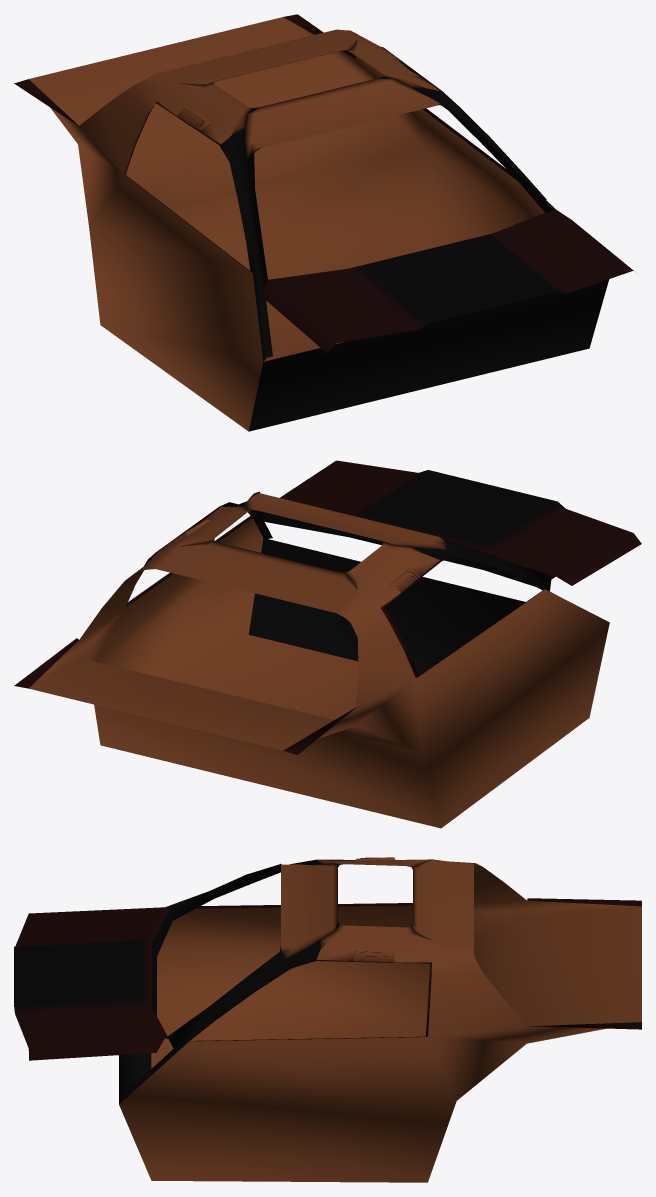
Rendered from carBody_V4.fbx.
The picture shows the model from 3 angles, top to bottom: view 1: azimuth 30°, elevation 25°; view 2: azimuth 150°, elevation 25°; view 3: azimuth 270°, elevation 25°; orthographic projection. The views are drawn at different scales.
Parts seen in each view (by area): view 1: carBody_V4; view 2: carBody_V4; view 3: carBody_V4.
Boxes of the visible parts, left/top/right/bottom form: carBody_V4: left=14, top=14, right=633, bottom=431; carBody_V4: left=14, top=460, right=641, bottom=828; carBody_V4: left=14, top=857, right=641, bottom=1182.
Bounding box in the file's own units: 195 × 121 × 328.
